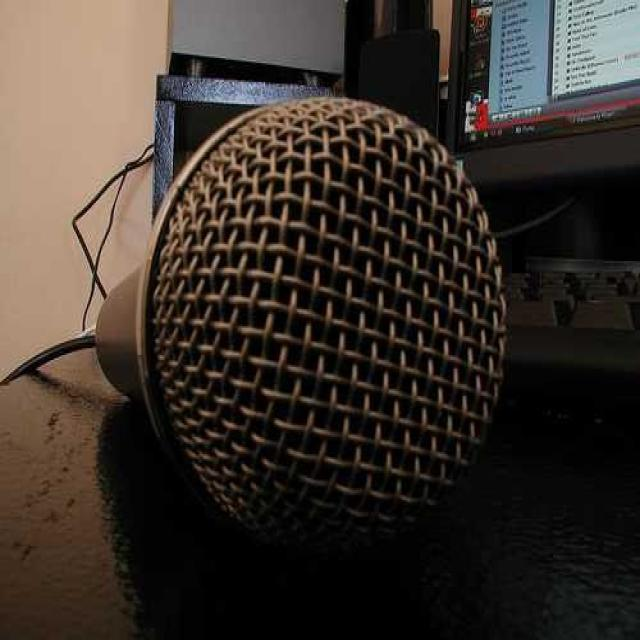microphone: (115, 100, 502, 540)
